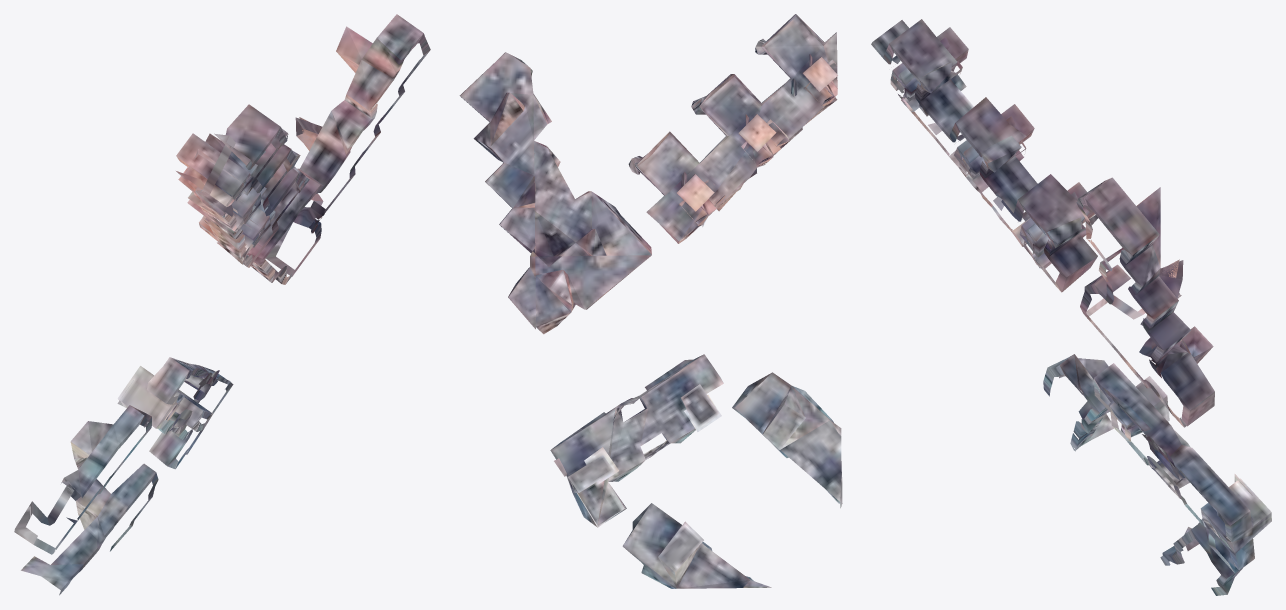
3 views of the same model, side by side, from view 1: azimuth 30°, elevation 25°; view 2: azimuth 150°, elevation 25°; view 3: azimuth 270°, elevation 25° (orthographic). The views are drawn at different scales.
Size of the model in its own units: 98.47 by 124 by 76.8.
Materials: 1 (1 with a texture image).
